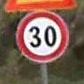limite 30: (14, 10, 71, 63)
